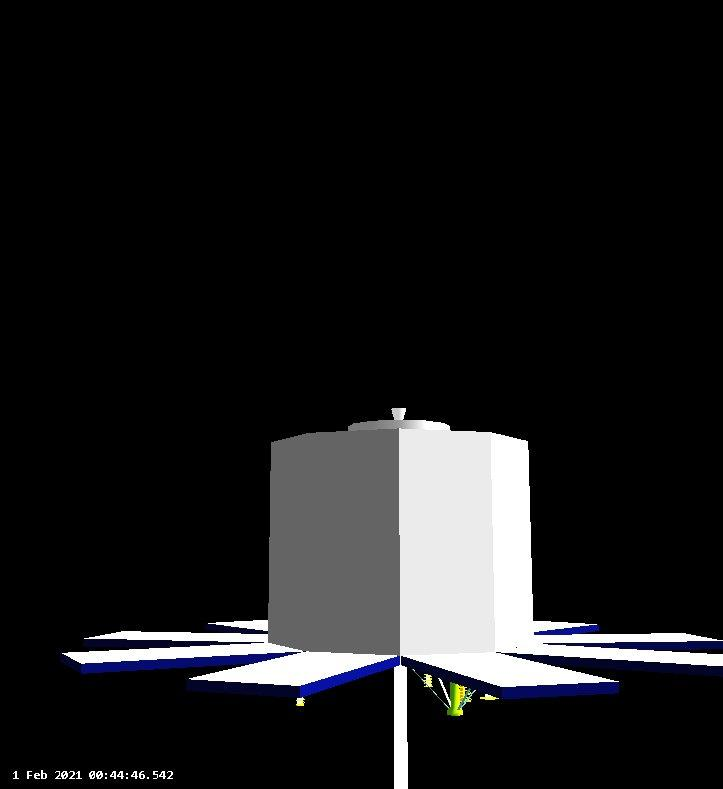antenna: (411, 663, 477, 717), (389, 661, 411, 789), (421, 671, 435, 689), (293, 697, 308, 709)
body: (266, 430, 535, 655)
solar: (399, 652, 621, 701), (186, 653, 401, 699), (59, 641, 309, 676), (497, 643, 723, 680), (534, 631, 723, 652), (81, 630, 270, 646), (532, 619, 600, 636), (205, 617, 270, 634)
thruster: (389, 407, 409, 421)
